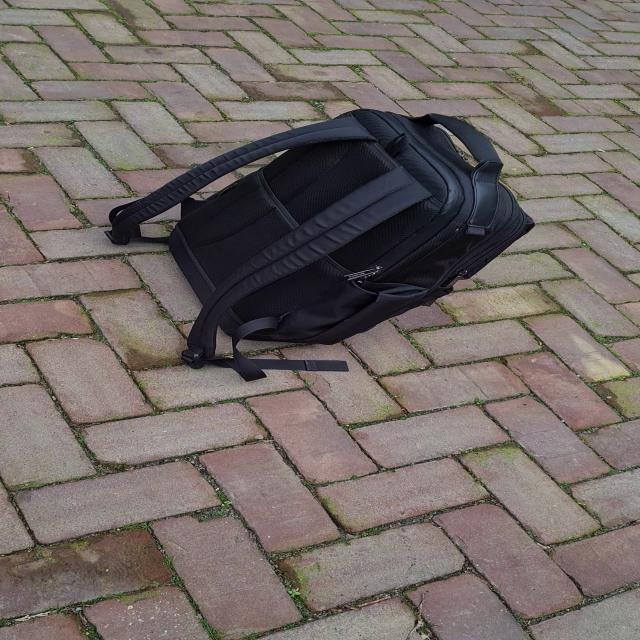backpack: (114, 108, 544, 369)
